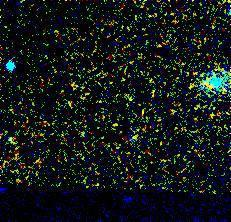star: (192, 71, 222, 101)
